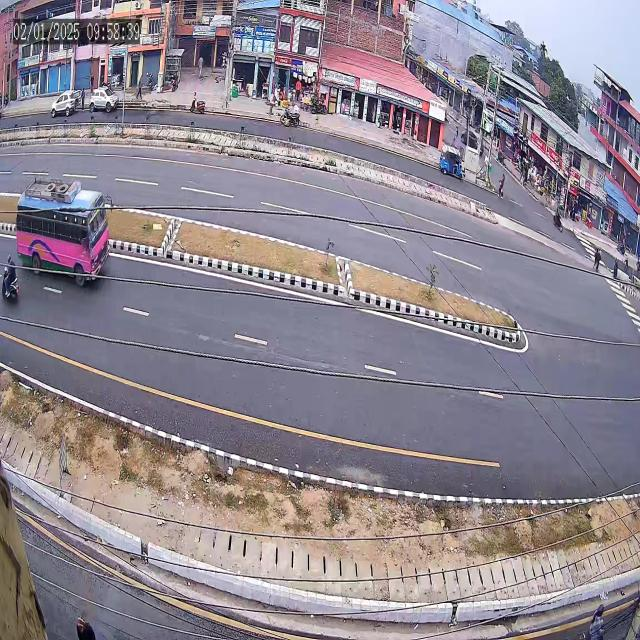bus: (12, 167, 119, 289)
motorcycle: (0, 251, 18, 317)
